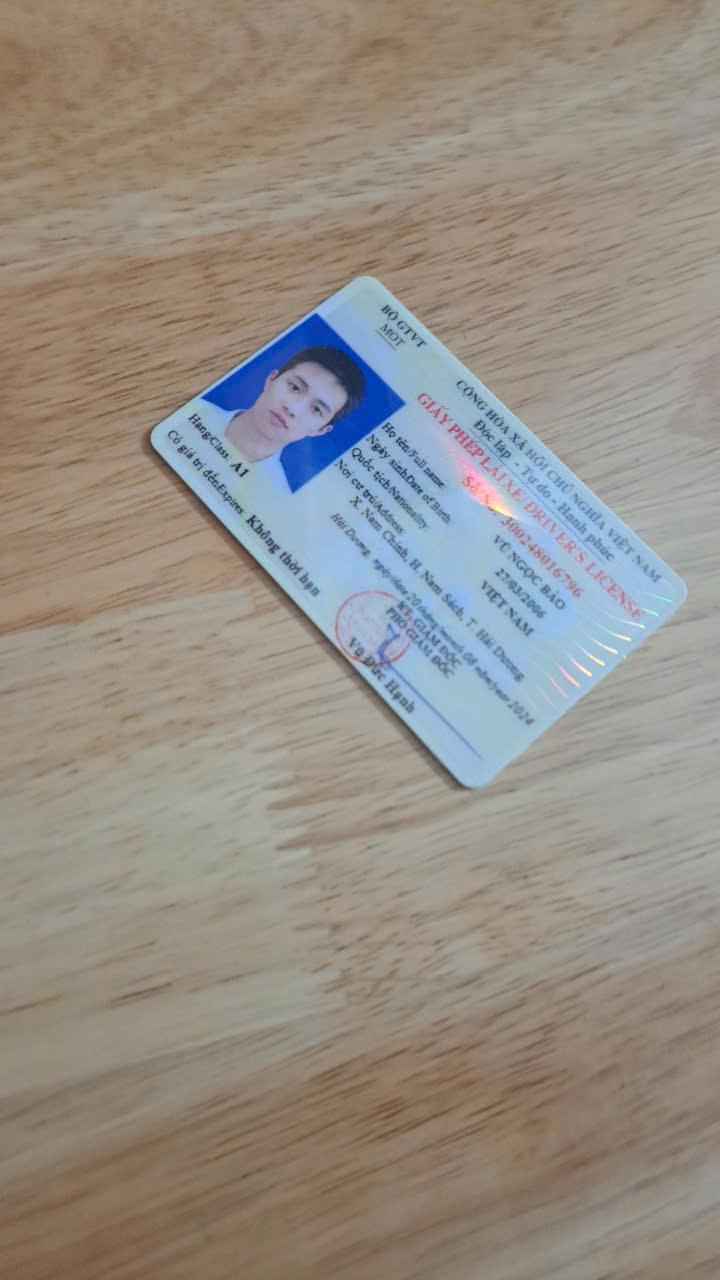gplx: (132, 269, 692, 800)
